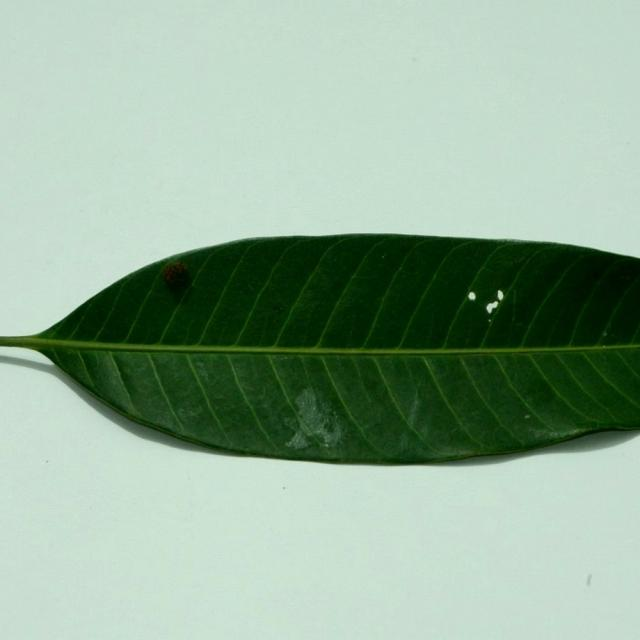Anthracnose: (454, 269, 522, 343)
Mango: (0, 234, 639, 468)
